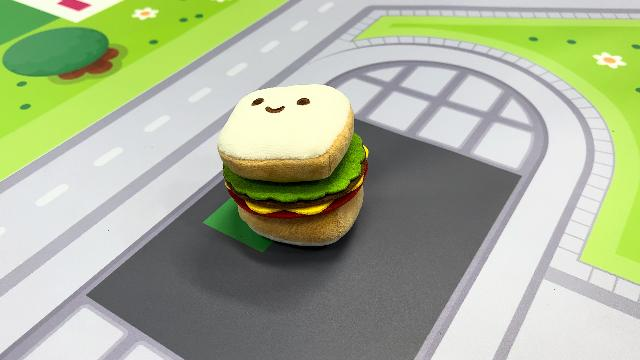sandwich: (216, 81, 370, 248)
